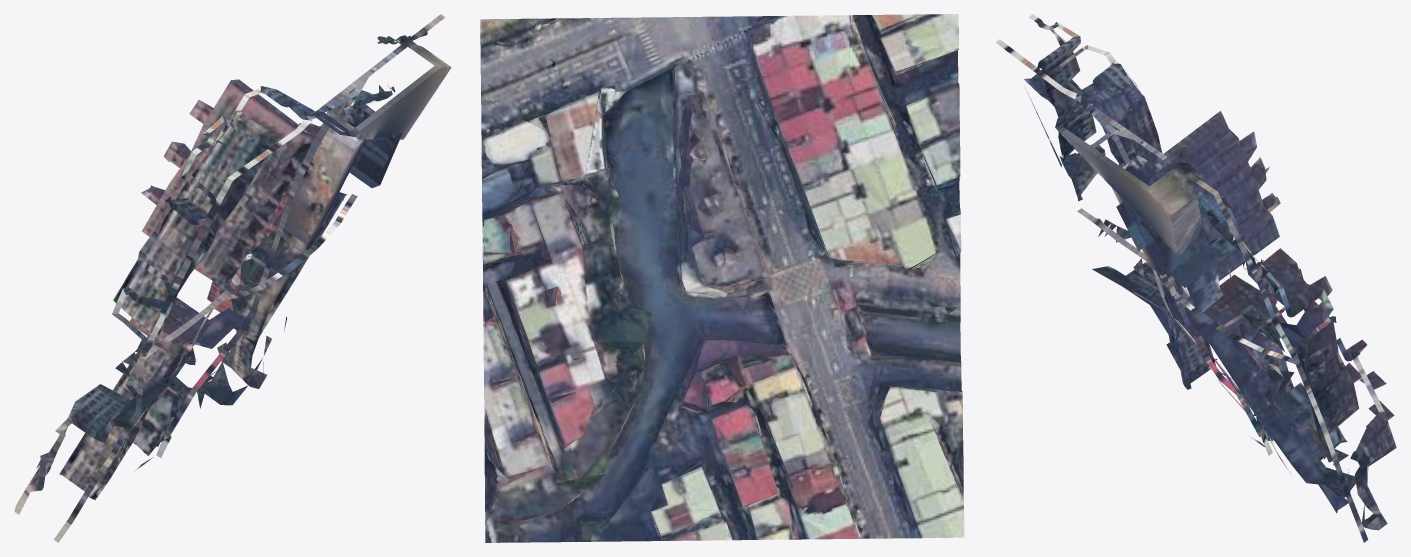
3 renders of one model, left to right at view 1: azimuth 30°, elevation 25°; view 2: azimuth 150°, elevation 25°; view 3: azimuth 270°, elevation 25°, orthographic. The views are drawn at different scales.
Size of the model in its own units: 159 by 150 by 132.
Materials: 1 (1 with a texture image).
